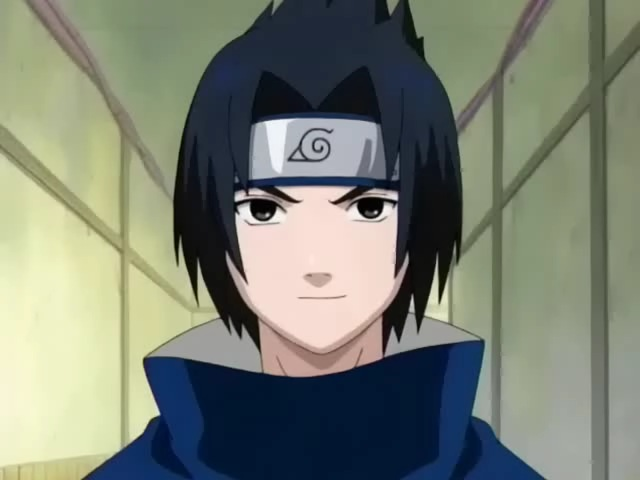sasuke: (208, 112, 417, 356)
